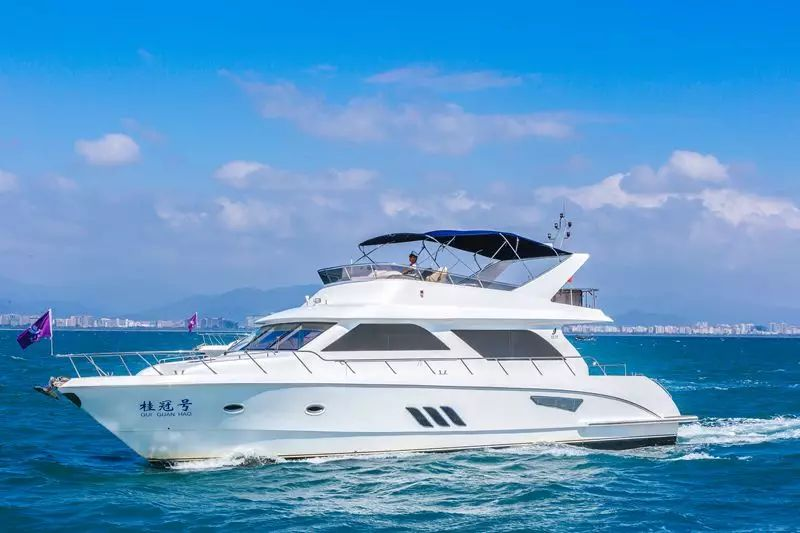yacht: (40, 216, 703, 459)
